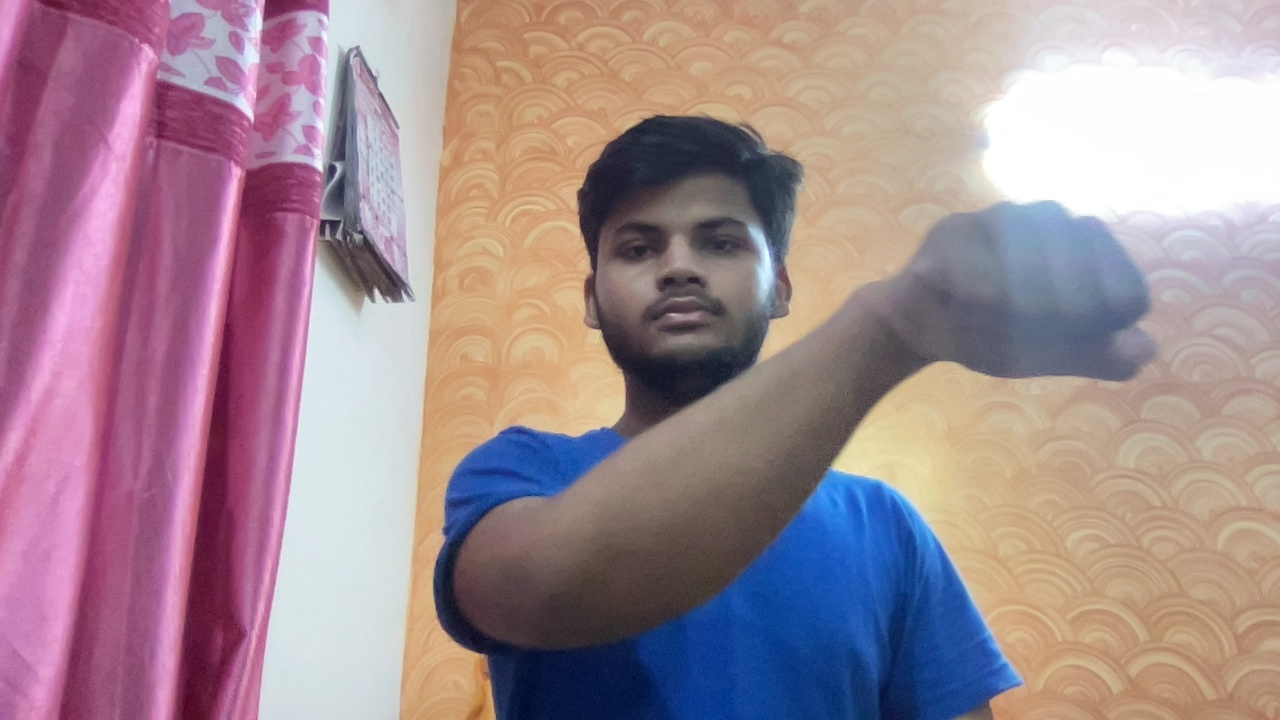yes: (870, 165, 1214, 426)
